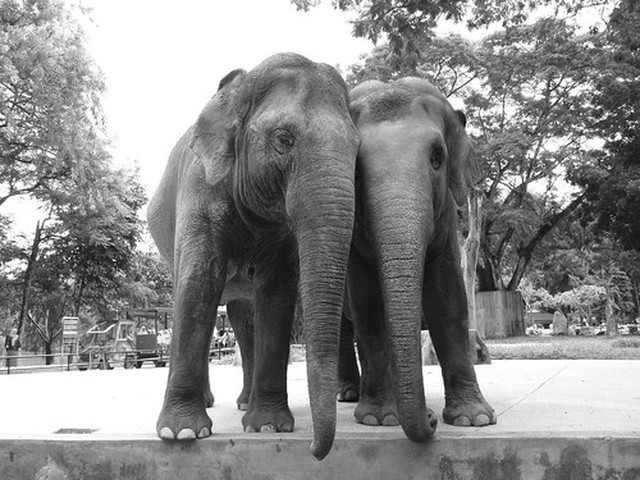Elephant: (144, 47, 504, 463)
